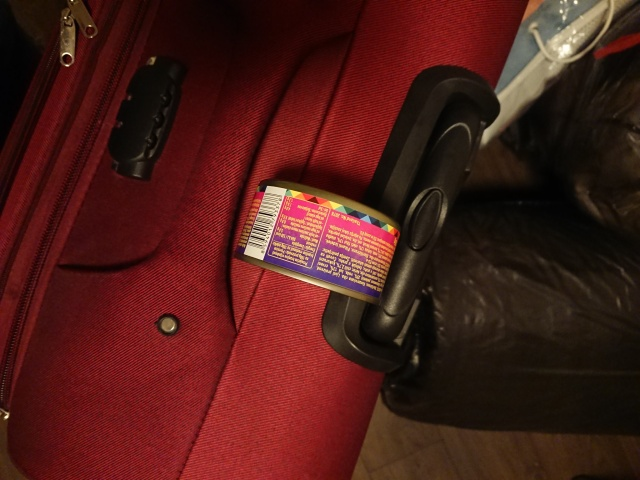Giana Tuna Salad Mexico 185g: (231, 178, 403, 308)
